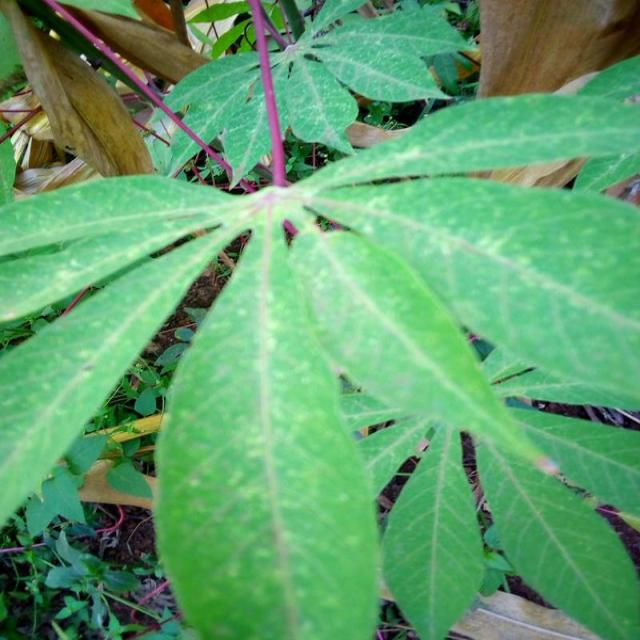cassava leaf: (0, 28, 638, 638), (152, 205, 381, 638)
